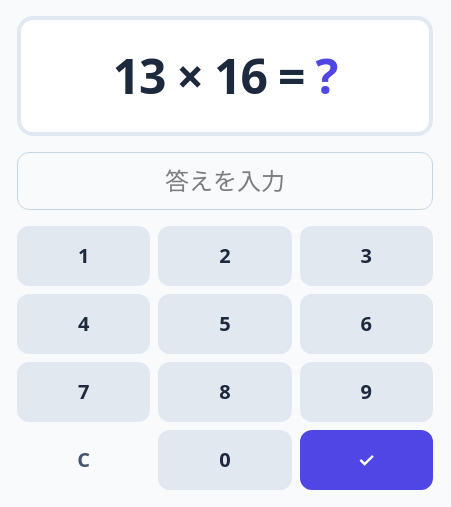
QuizView › 不正解時はインド式解説が表示される
Type "999" into the field named "答えの入力欄".
click(225, 181); type("999")  # box [17,152,433,210]
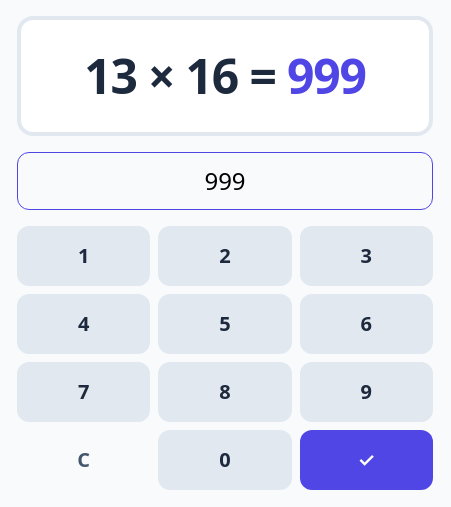
Press Enter in the field named "答えの入力欄", box [17,152,433,210]
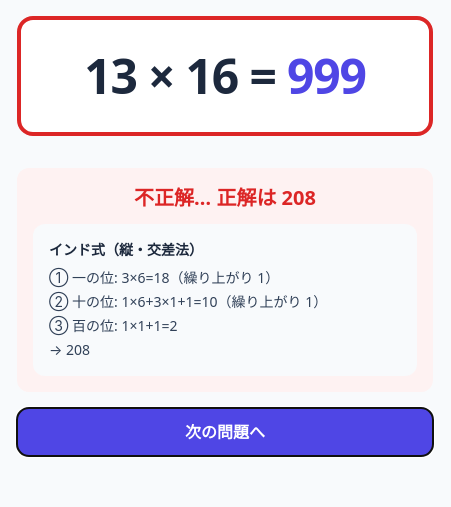
Check: the text "不正解… 正解は 208" is shown, box [134,184,316,211]
Check: the text "インド式（縦・交差法）" is shown, box [49,240,203,259]
